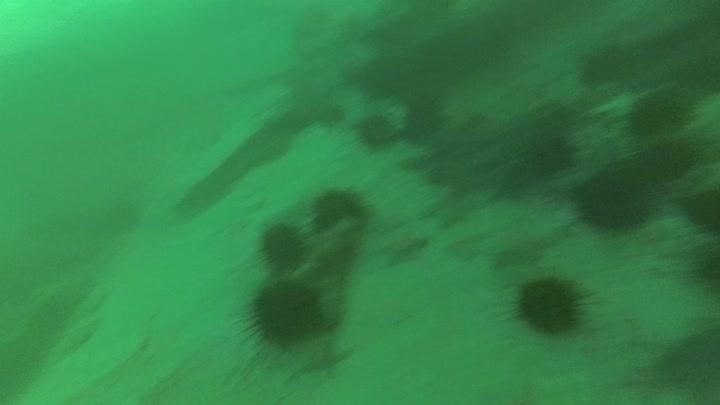echinus: (243, 277, 327, 349), (573, 168, 654, 234), (512, 272, 591, 338), (625, 87, 691, 139), (256, 220, 309, 274), (308, 185, 371, 230), (579, 43, 631, 88), (402, 93, 448, 142), (681, 185, 720, 235), (355, 111, 398, 151)
starfish: (375, 225, 432, 269)
